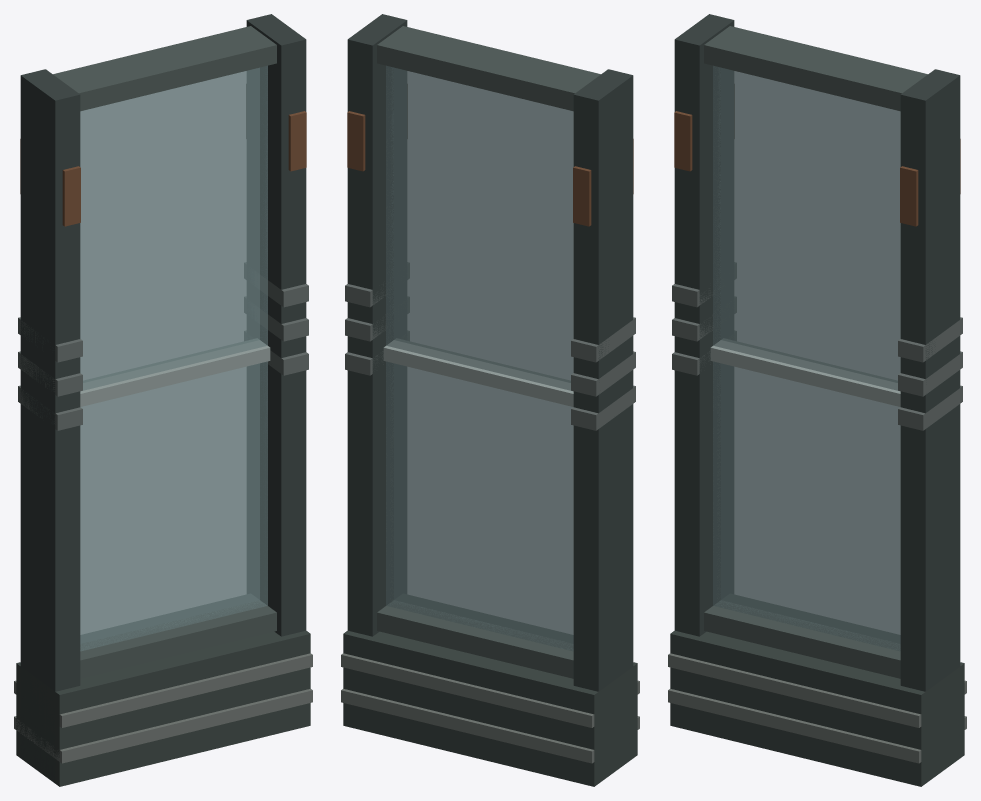
File: CMU3DStrataWindow.glb
The picture shows the model from 3 angles, left to right: view 1: azimuth 30°, elevation 25°; view 2: azimuth 150°, elevation 25°; view 3: azimuth 330°, elevation 25°; orthographic projection.
Parts seen in each view (by area): view 1: blue-gray glass, window end column (×2), window lower sill, window horizontal frame (×2), sill stepped rim (×2), column ribs (×6), window mid crossbar, bronze service tab (×2); view 2: blue-gray glass, window end column (×2), window lower sill, window horizontal frame (×2), sill stepped rim (×2), column ribs (×6), window mid crossbar, bronze service tab back (×2); view 3: blue-gray glass, window end column (×2), window lower sill, window horizontal frame (×2), sill stepped rim (×2), column ribs (×6), window mid crossbar, bronze service tab (×2).
Part boxes in pixels (x1=…): blue-gray glass: x1=80, y1=65, x2=267, y2=651; window end column (×2): x1=20, y1=14, x2=306, y2=783; window lower sill: x1=16, y1=630, x2=310, y2=786; window horizontal frame (×2): x1=53, y1=26, x2=276, y2=678; sill stepped rim (×2): x1=14, y1=653, x2=312, y2=763; column ribs (×6): x1=18, y1=263, x2=308, y2=430; window mid crossbar: x1=80, y1=339, x2=270, y2=406; bronze service tab (×2): x1=62, y1=111, x2=306, y2=226; blue-gray glass: x1=386, y1=65, x2=573, y2=651; window end column (×2): x1=347, y1=14, x2=633, y2=691; window lower sill: x1=343, y1=630, x2=637, y2=786; window horizontal frame (×2): x1=377, y1=26, x2=600, y2=678; sill stepped rim (×2): x1=341, y1=653, x2=639, y2=763; column ribs (×6): x1=345, y1=263, x2=635, y2=430; window mid crossbar: x1=383, y1=339, x2=573, y2=406; bronze service tab back (×2): x1=347, y1=111, x2=591, y2=226; blue-gray glass: x1=713, y1=65, x2=900, y2=651; window end column (×2): x1=674, y1=14, x2=960, y2=691; window lower sill: x1=670, y1=630, x2=964, y2=786; window horizontal frame (×2): x1=704, y1=26, x2=927, y2=678; sill stepped rim (×2): x1=668, y1=653, x2=966, y2=763; column ribs (×6): x1=672, y1=263, x2=962, y2=430; window mid crossbar: x1=710, y1=339, x2=900, y2=406; bronze service tab (×2): x1=674, y1=111, x2=918, y2=226.
Bounding box in the file's own units: 1 × 2.6 × 0.33.
